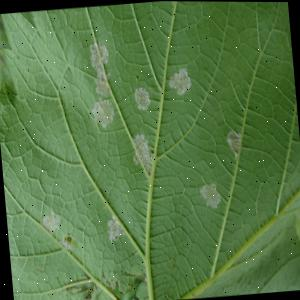Folha: (0, 0, 300, 300)
Fungo: (83, 39, 116, 129), (130, 130, 154, 176), (89, 95, 116, 129), (88, 40, 110, 80), (167, 65, 192, 95), (197, 180, 221, 210), (40, 207, 62, 237), (224, 127, 243, 158), (104, 214, 124, 243), (92, 71, 112, 98), (133, 85, 151, 110), (58, 231, 76, 252), (97, 41, 109, 64)
